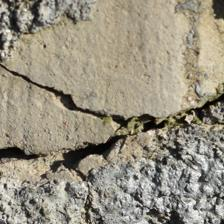Crack: (48, 67, 111, 158), (121, 174, 185, 224)
